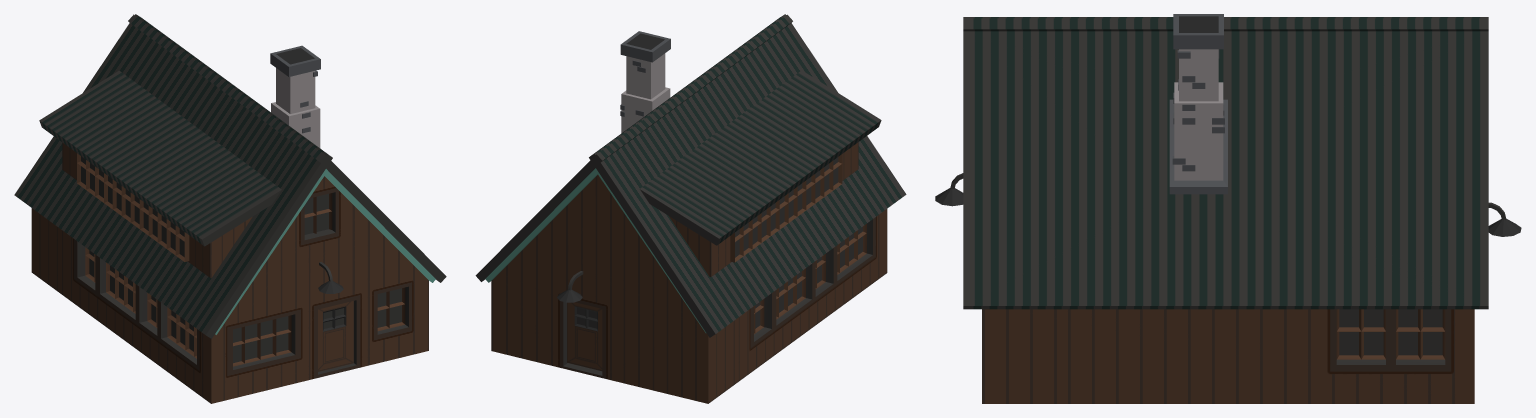
File: Cabin.obj
3 views of the same model, side by side, from view 1: azimuth 30°, elevation 25°; view 2: azimuth 150°, elevation 25°; view 3: azimuth 270°, elevation 25° (orthographic). The views are drawn at different scales.
Visible parts, largest first — view 1: Cabin.001; view 2: Cabin.001; view 3: Cabin.001.
Boxes of the visible parts, x1,y1,x2,y2 form: Cabin.001: (14,14,446,403); Cabin.001: (475,14,906,403); Cabin.001: (935,14,1521,403).
Bounding box in the file's own units: 0.1219 × 0.1208 × 0.1873.
1 material, 1 textured.
